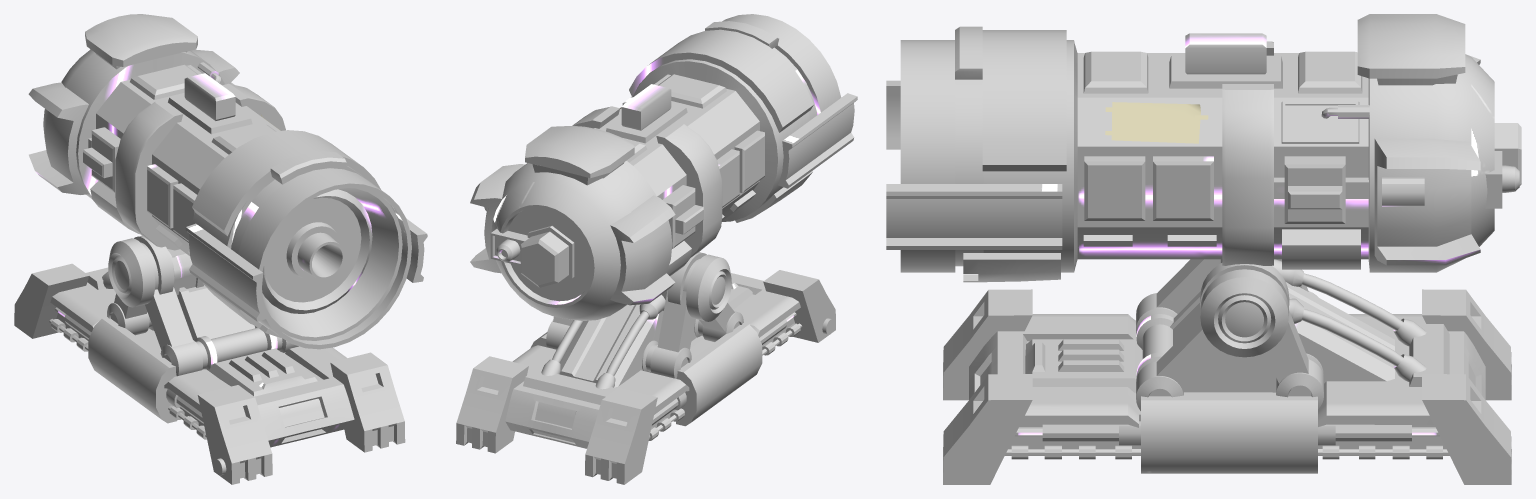
File: DOT_LaserGul_Mesh.fbx
The picture shows the model from 3 angles, left to right: view 1: azimuth 30°, elevation 25°; view 2: azimuth 150°, elevation 25°; view 3: azimuth 270°, elevation 25°; orthographic projection. The views are drawn at different scales.
Visible parts, largest first — view 1: Cylinder.004, Cube.001, Cylinder.010, Cube, Cylinder.006, Cube.002, Cylinder.017, Cylinder.016, Cylinder.015, Cylinder.002, Cylinder.001, Cube.005 (+9 smaller); view 2: Cylinder.004, Cube.001, Cube, Cylinder.010, Cylinder.006, Cylinder.017, Cube.002, Cylinder.015, Cube.010, Cylinder.016, Cylinder.001, Cylinder.009 (+10 smaller); view 3: Cylinder.004, Cube.001, Cylinder.010, Cube, Cube.002, Cylinder.006, Cylinder.016, Cylinder.017, Cylinder.015, Cylinder.001, Cylinder.008, Cylinder.009 (+17 smaller).
Part boxes in pixels (box(x1,y1,x2,y2)): Cylinder.004: box(61, 49, 411, 349); Cube.001: box(14, 263, 405, 484); Cylinder.010: box(83, 83, 285, 250); Cube: box(50, 267, 354, 447); Cylinder.006: box(192, 130, 380, 236); Cube.002: box(88, 317, 177, 423); Cylinder.017: box(28, 49, 239, 194); Cylinder.016: box(185, 218, 427, 321); Cylinder.015: box(85, 14, 197, 69); Cylinder.002: box(107, 303, 298, 376); Cylinder.001: box(108, 235, 174, 307); Cube.005: box(207, 348, 317, 396); Cylinder.004: box(491, 14, 841, 320); Cube.001: box(456, 270, 835, 484); Cube: box(505, 273, 800, 448); Cylinder.010: box(572, 106, 764, 257); Cylinder.006: box(629, 21, 813, 132); Cylinder.017: box(470, 164, 675, 305); Cube.002: box(530, 323, 762, 426); Cylinder.015: box(525, 125, 634, 185); Cube.010: box(560, 304, 658, 387); Cylinder.016: box(622, 93, 857, 188); Cylinder.001: box(667, 252, 731, 321); Cylinder.009: box(606, 84, 687, 143); Cylinder.004: box(900, 40, 1494, 272); Cube.001: box(943, 289, 1511, 484); Cylinder.010: box(1084, 41, 1368, 265); Cube: box(969, 314, 1485, 455); Cube.002: box(1141, 395, 1317, 473); Cylinder.006: box(955, 26, 1066, 171); Cylinder.016: box(886, 80, 1062, 249); Cylinder.017: box(1374, 55, 1480, 265); Cylinder.015: box(1357, 14, 1465, 85); Cylinder.001: box(1200, 263, 1289, 357); Cylinder.008: box(1083, 51, 1362, 93); Cylinder.009: box(1169, 33, 1282, 88).
Size of the model in its own units: 41.14 by 65.22 by 94.47.
